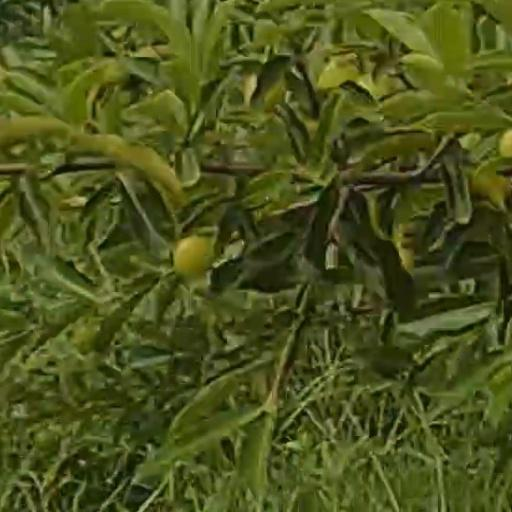acerola: (173, 237, 211, 275)
